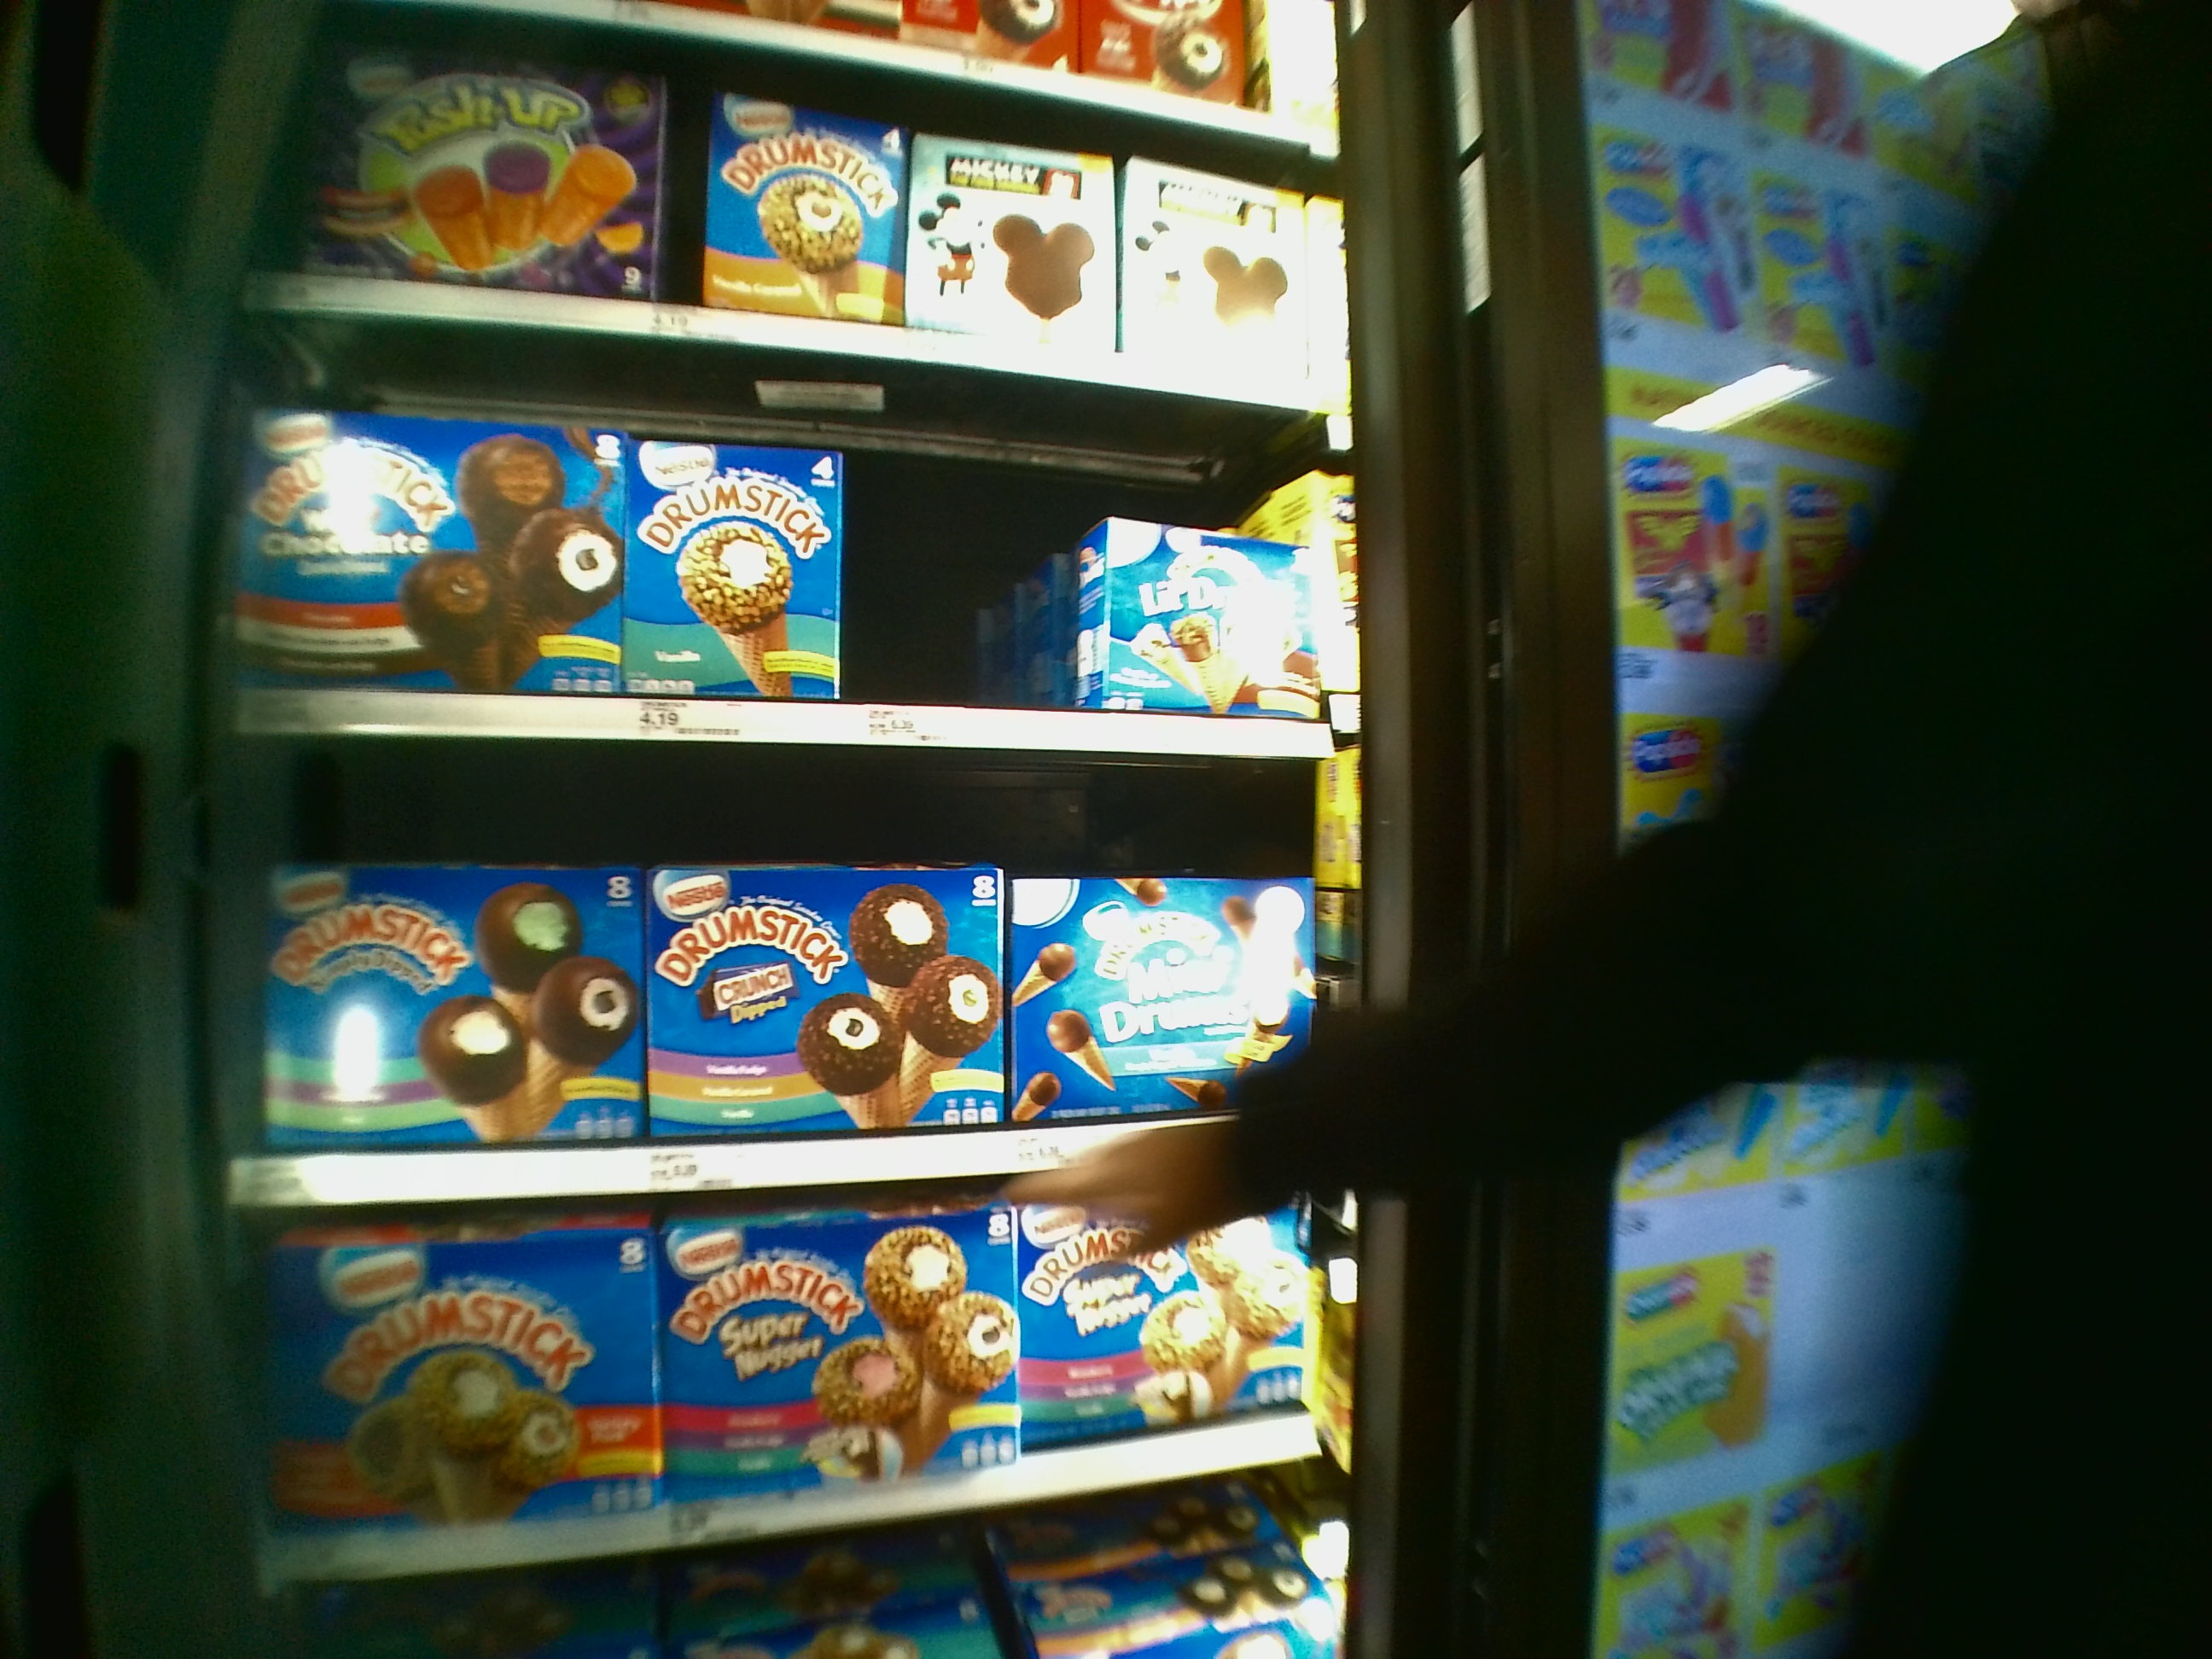shelf: (230, 762, 1404, 1199), (242, 1199, 1381, 1574), (228, 404, 1352, 762), (263, 80, 1334, 401)
